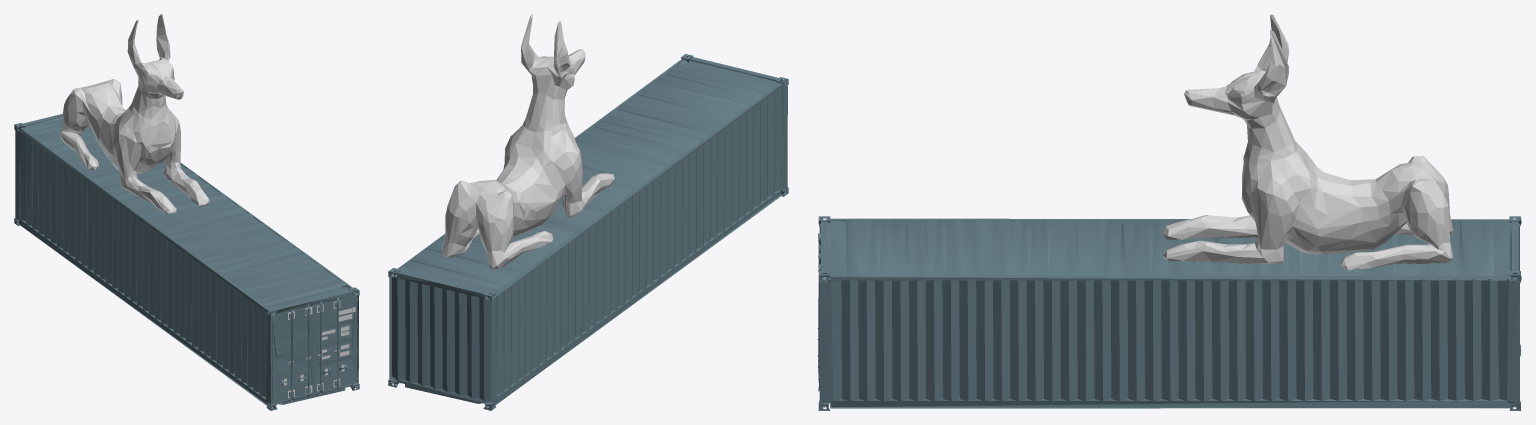
The model's file is Anubis.dae.
3 views of the same model, side by side, from view 1: azimuth 30°, elevation 25°; view 2: azimuth 150°, elevation 25°; view 3: azimuth 270°, elevation 25° (orthographic). The views are drawn at different scales.
Visible parts, largest first — view 1: Anubis_LowPoly; view 2: Anubis_LowPoly; view 3: Anubis_LowPoly.
Boxes of the visible parts, x1,y1,x2,y2 form: Anubis_LowPoly: [14, 14, 359, 410]; Anubis_LowPoly: [388, 14, 788, 410]; Anubis_LowPoly: [817, 14, 1521, 410].
Bounding box in the file's own units: 2.44 × 12.22 × 6.87.
